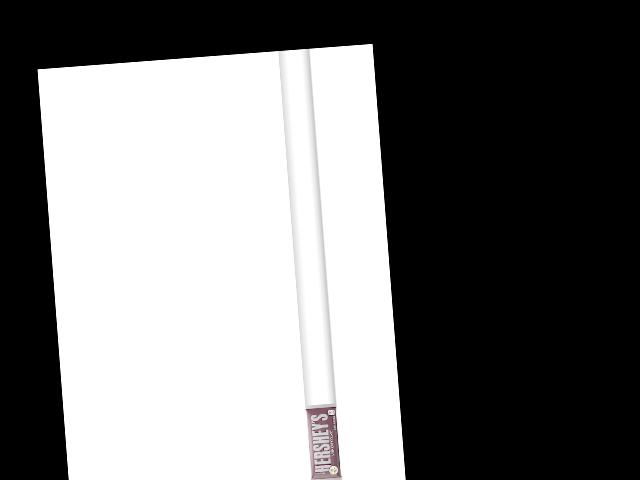chocolate: (306, 403, 345, 480)
